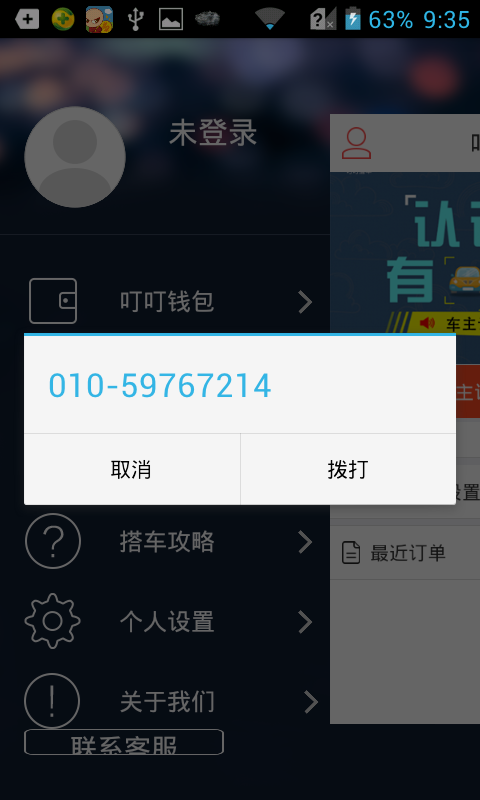alert: (16, 329, 464, 511)
button: (237, 427, 459, 508), (20, 430, 244, 509)
textview: (36, 366, 321, 414)
